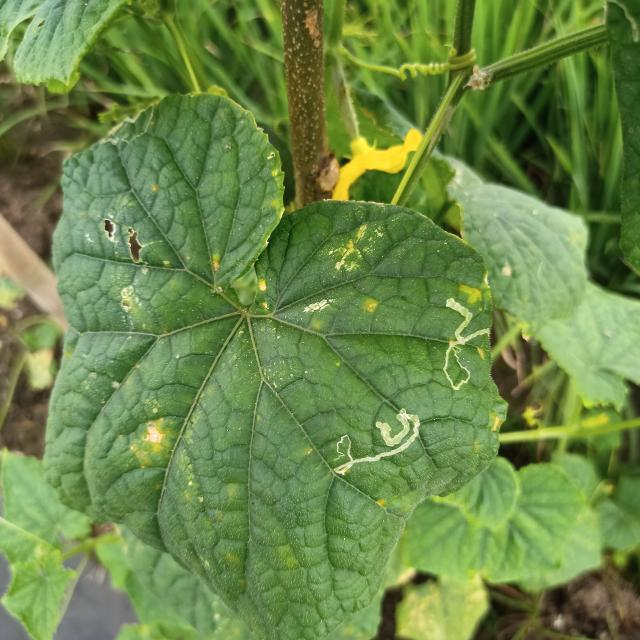disease_cucumber: (98, 215, 154, 328), (324, 222, 385, 276), (128, 415, 170, 469), (300, 295, 338, 331), (456, 281, 488, 305), (256, 276, 272, 312), (209, 252, 223, 276), (362, 297, 380, 315), (491, 413, 502, 435)
